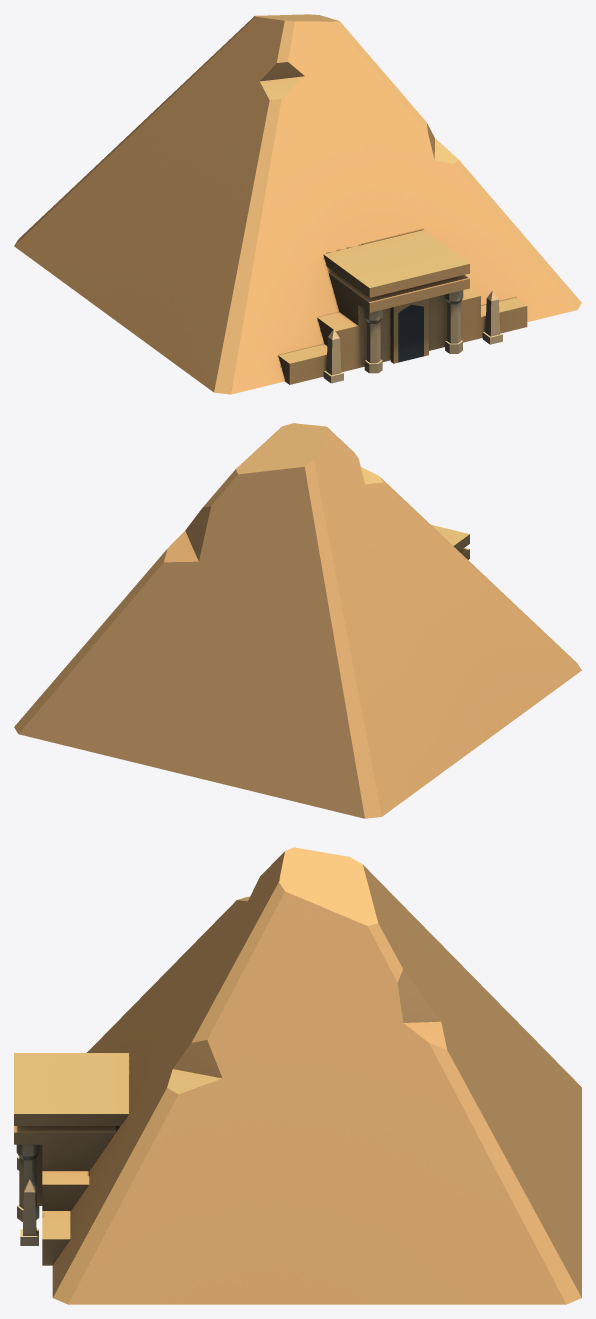
The model's file is Piramide5.gltf.
The picture shows the model from 3 angles, top to bottom: view 1: azimuth 30°, elevation 25°; view 2: azimuth 150°, elevation 25°; view 3: azimuth 270°, elevation 25°; orthographic projection. The views are drawn at different scales.
Parts seen in each view (by area): view 1: pyramid; view 2: pyramid; view 3: pyramid.
Part boxes in pixels (left/top/right/bottom): pyramid: left=14, top=14, right=581, bottom=394; pyramid: left=14, top=423, right=581, bottom=818; pyramid: left=14, top=847, right=581, bottom=1304.
Size of the model in its own units: 1.95 by 1.36 by 2.09.
Materials: 1 (1 with a texture image).
